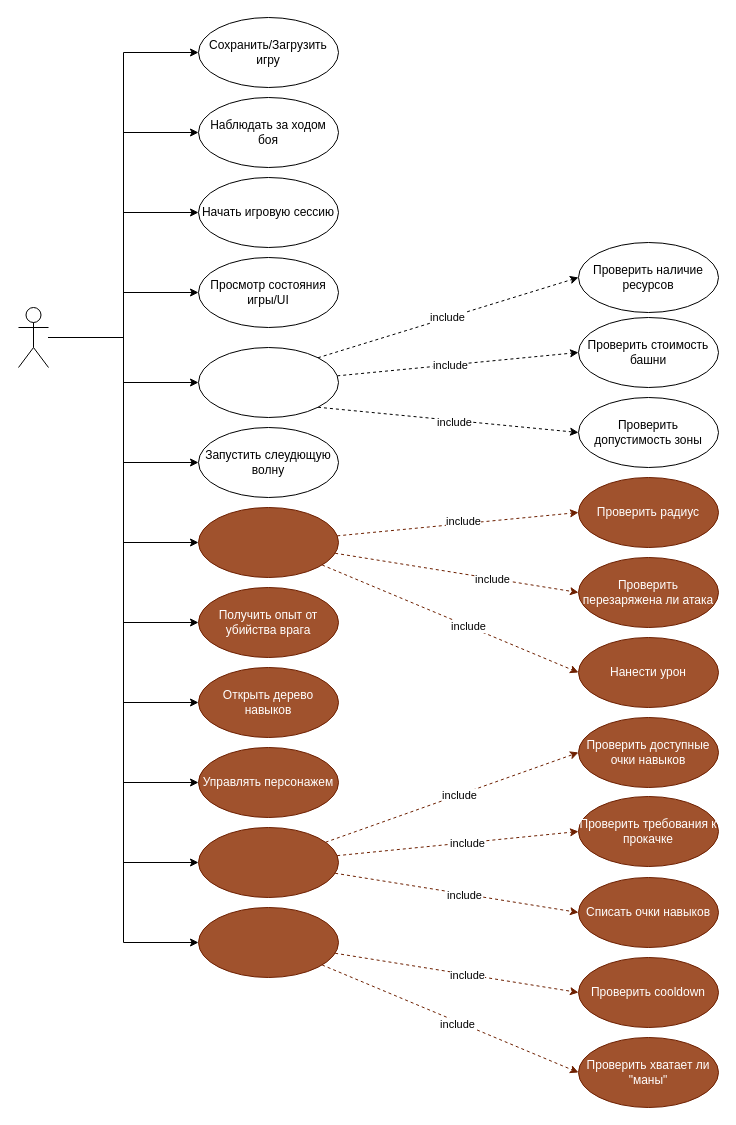
The diagram is 736 pixels wide and 1125 high, and some of its shapes have lost their labels. Here are the shapes that lost their labels. From the top down, the centre of each, then its label:
At point (33, 337): "Игрок".
At point (268, 382): "Разместить башню".
At point (268, 542): "Атаковать врагов".
At point (268, 862): "Прокачать навык".
At point (268, 942): "Активировать навык".
